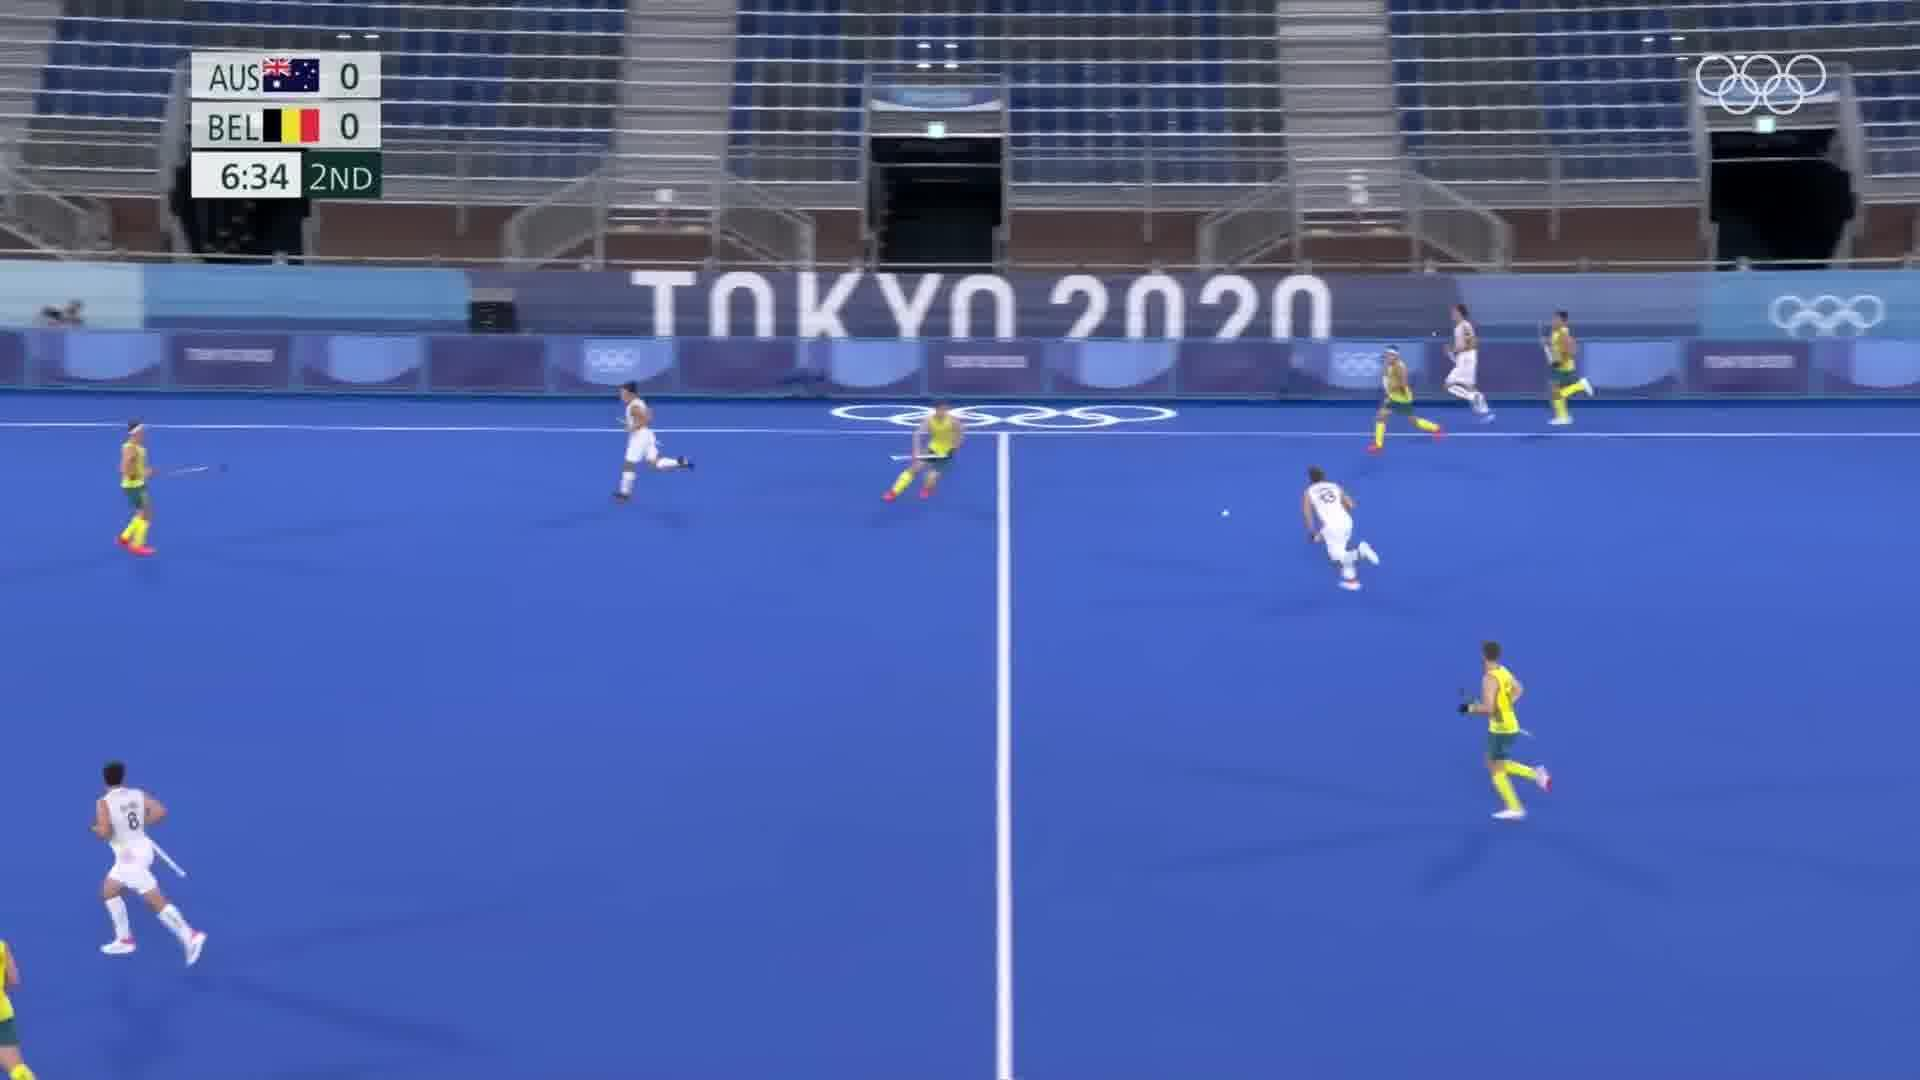ball: (1215, 498, 1236, 525)
